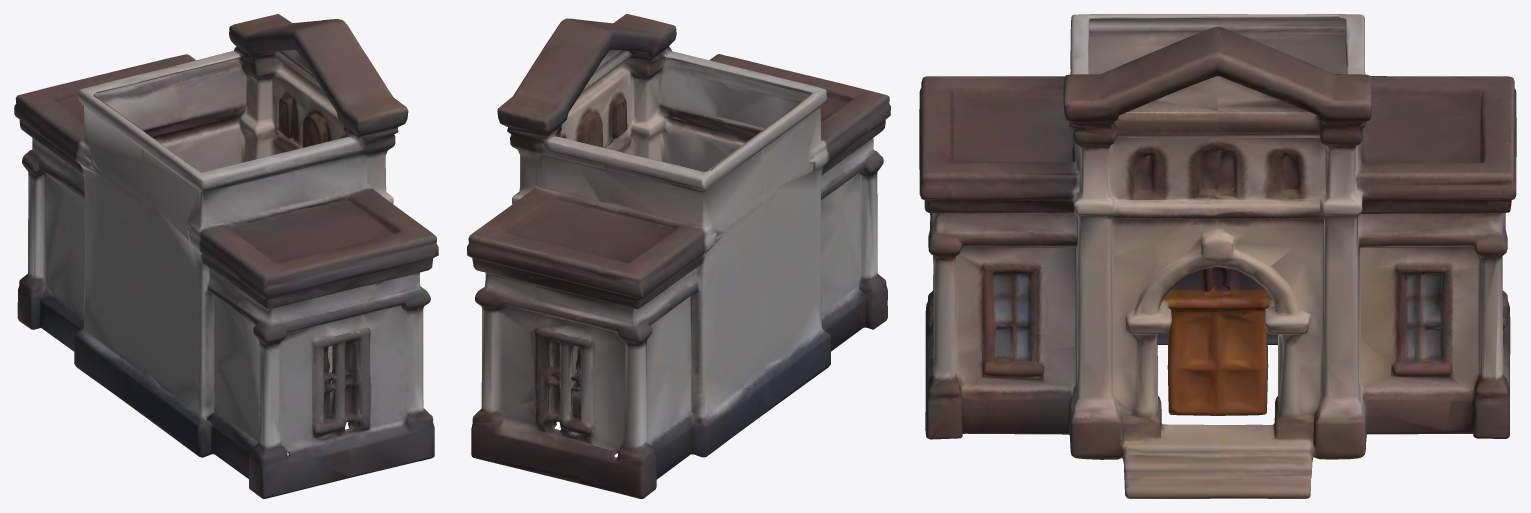
The model's file is guild_patent_office.glb.
The picture shows the model from 3 angles, left to right: view 1: azimuth 30°, elevation 25°; view 2: azimuth 150°, elevation 25°; view 3: azimuth 270°, elevation 25°; orthographic projection. The views are drawn at different scales.
Parts seen in each view (by area): view 1: tripo_node_7f8fde1a-8bc2-4431-8dae-e51cb9e791ba; view 2: tripo_node_7f8fde1a-8bc2-4431-8dae-e51cb9e791ba; view 3: tripo_node_7f8fde1a-8bc2-4431-8dae-e51cb9e791ba.
Boxes of the visible parts, bbox=[...] form: tripo_node_7f8fde1a-8bc2-4431-8dae-e51cb9e791ba: bbox=[14, 14, 438, 498]; tripo_node_7f8fde1a-8bc2-4431-8dae-e51cb9e791ba: bbox=[467, 14, 890, 498]; tripo_node_7f8fde1a-8bc2-4431-8dae-e51cb9e791ba: bbox=[919, 14, 1516, 498].
Size of the model in its own units: 0.5291 by 0.7467 by 0.9496.
1 material, 1 textured.
